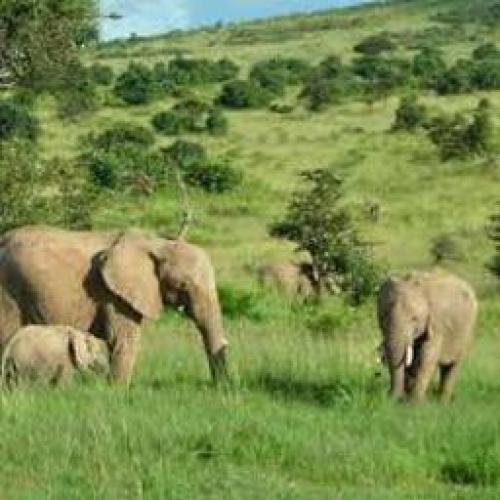african_elephant-endangered: (1, 218, 234, 394), (372, 272, 482, 404), (5, 319, 108, 387)
